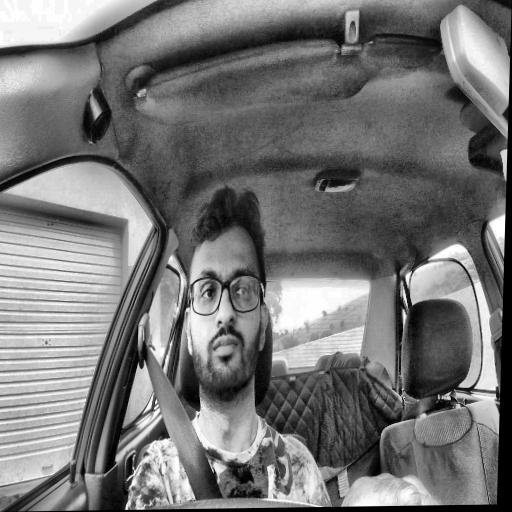awake: (180, 187, 273, 419)
